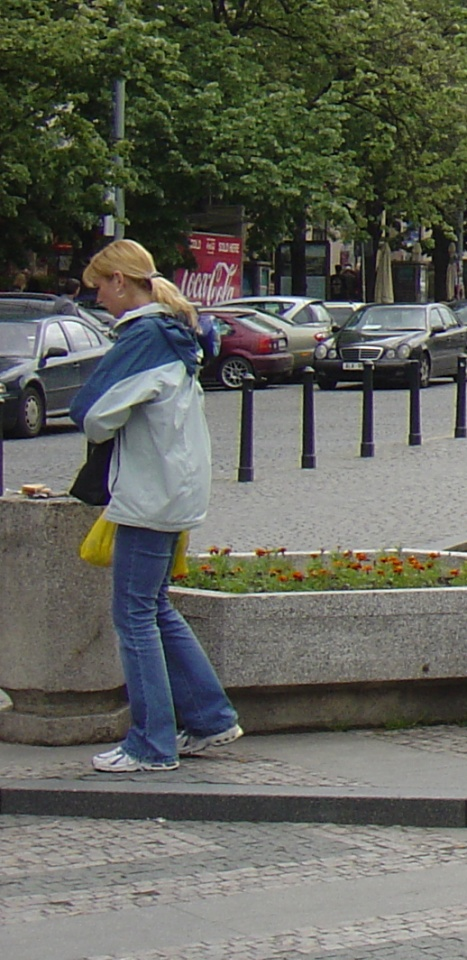person: (75, 239, 222, 773)
